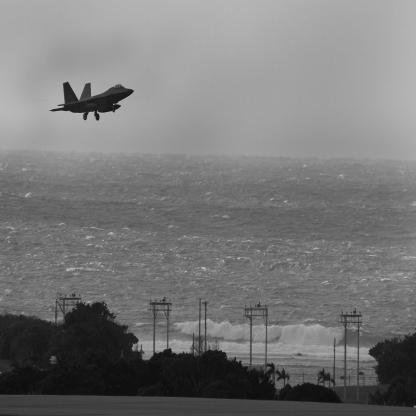F22: (50, 82, 136, 122)
